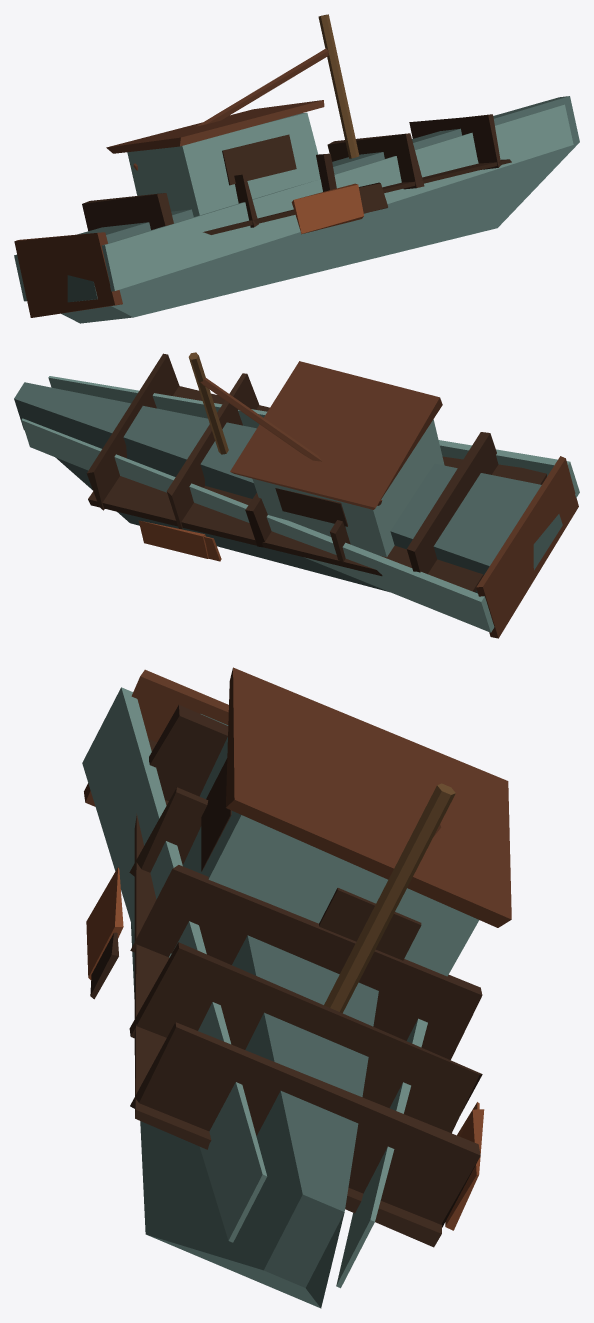
Rendered from boat_fishing.glb.
The picture shows the model from 3 angles, top to bottom: view 1: azimuth 30°, elevation 25°; view 2: azimuth 150°, elevation 25°; view 3: azimuth 270°, elevation 25°; orthographic projection. The views are drawn at different scales.
Visible parts, largest first — view 1: boat_fishing; view 2: boat_fishing; view 3: boat_fishing.
Part boxes in pixels (<box>): boat_fishing: <box>14,14,579,323</box>; boat_fishing: <box>14,352,579,638</box>; boat_fishing: <box>82,667,511,1308</box>.
Bounding box in the file's own units: 10.03 × 4.19 × 3.72.
